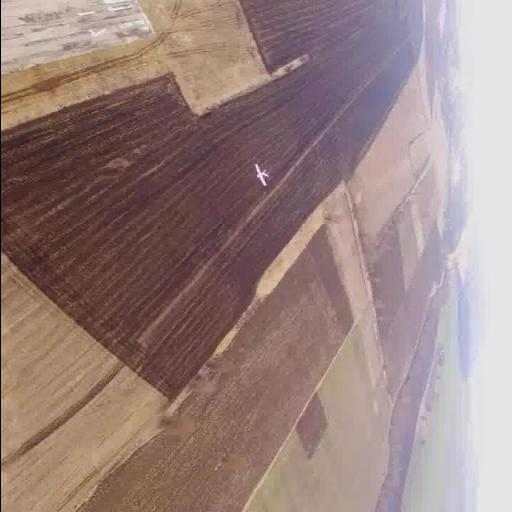uav: (235, 154, 287, 196)
